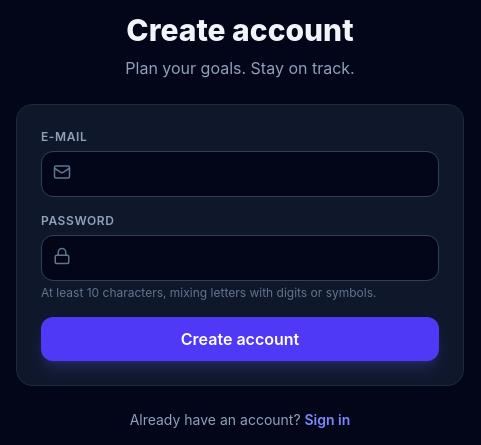
Test: AuthPage › enforces the password policy on registration
Type "me@example.com" into the field labelled "E-mail".
click(240, 174); type("me@example.com")  # box [41,151,439,197]
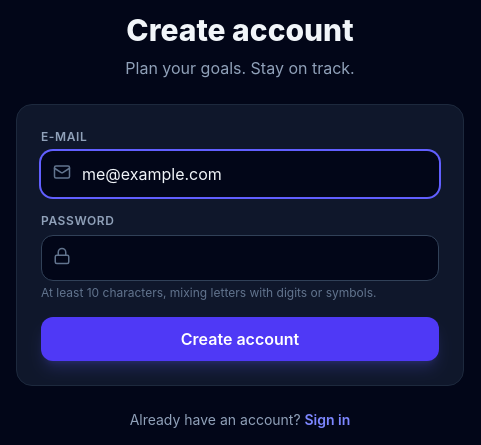
Type "short" into the password field labelled "Password".
click(240, 258); type("short")  # box [41,235,439,281]
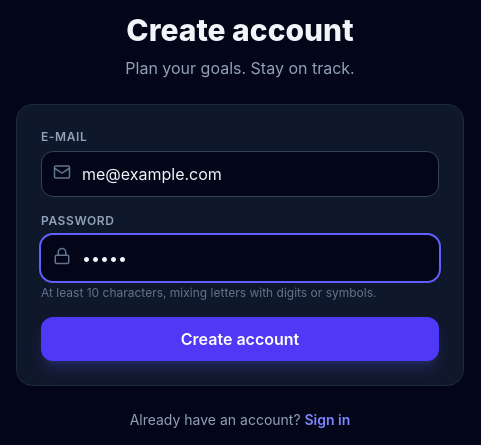
Click the button "Create account".
click(240, 339)  # box [41,317,439,361]
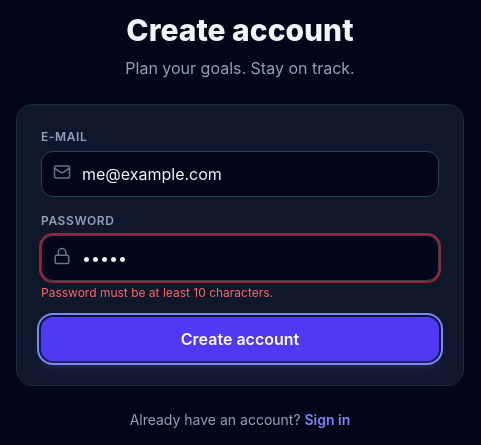
Expected: the text "Password must be at least 10 characters." is shown, [41,285,273,300]
